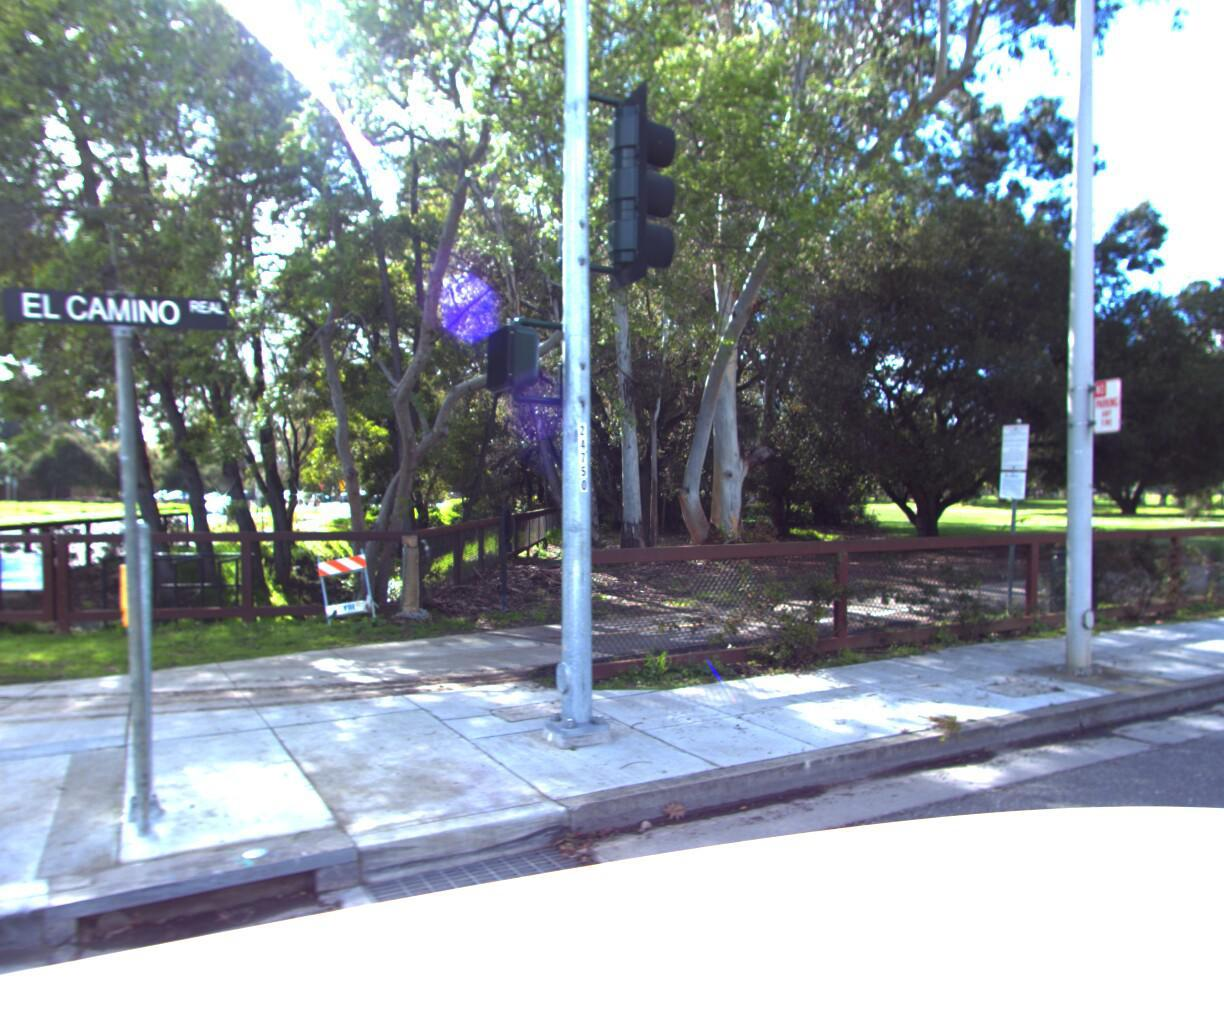bicycle: (0, 485, 47, 949)
